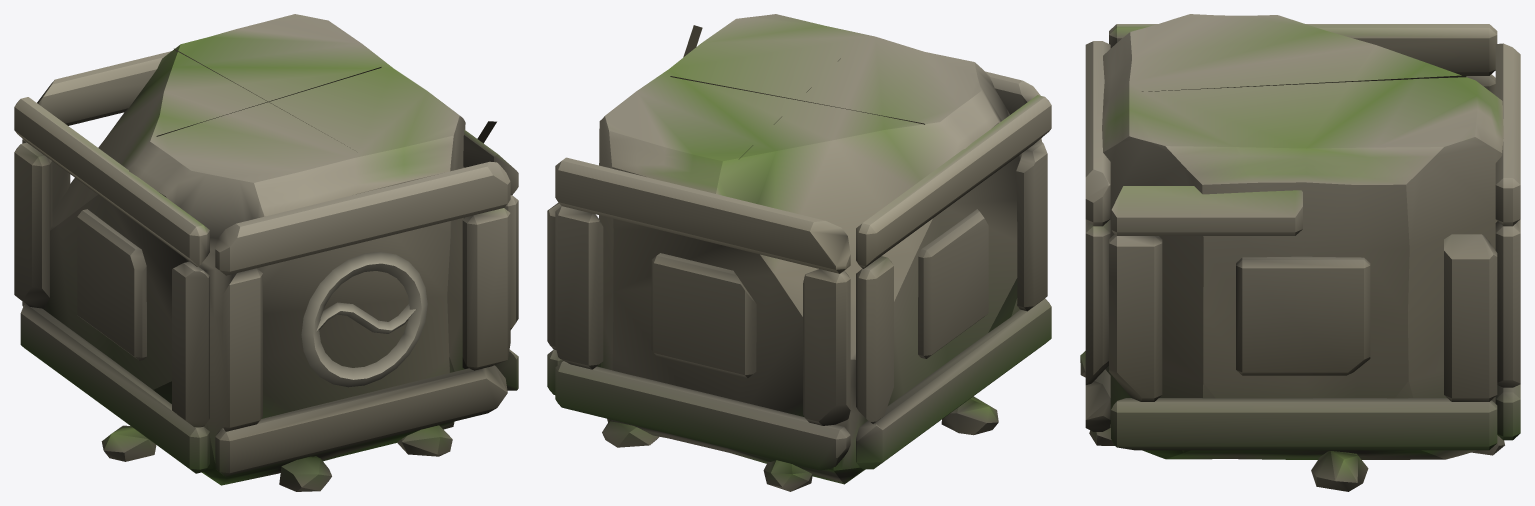
Rendered from building-ruins-stoneBlock-low.glb.
3 views of the same model, side by side, from view 1: azimuth 30°, elevation 25°; view 2: azimuth 150°, elevation 25°; view 3: azimuth 270°, elevation 25° (orthographic). The views are drawn at different scales.
Parts seen in each view (by area): view 1: 0_ruins-stoneBlock; view 2: 0_ruins-stoneBlock; view 3: 0_ruins-stoneBlock.
Boxes of the visible parts, bbox=[...] form: 0_ruins-stoneBlock: bbox=[14, 14, 518, 491]; 0_ruins-stoneBlock: bbox=[547, 14, 1051, 491]; 0_ruins-stoneBlock: bbox=[1080, 14, 1520, 491].
Bounding box in the file's own units: 0.5677 × 0.4541 × 0.5628.
